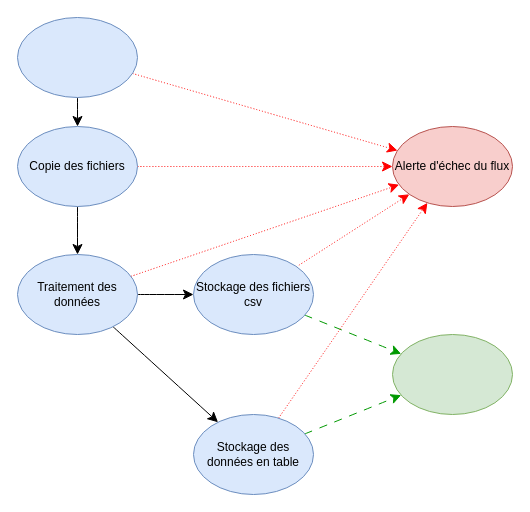
Image size: 530x512. Some labels were removed from this diagram. Each missing label, with the centre of its shape:
Alerte de succès du flux: (452,374)
Lister les fichiers: (77,57)
